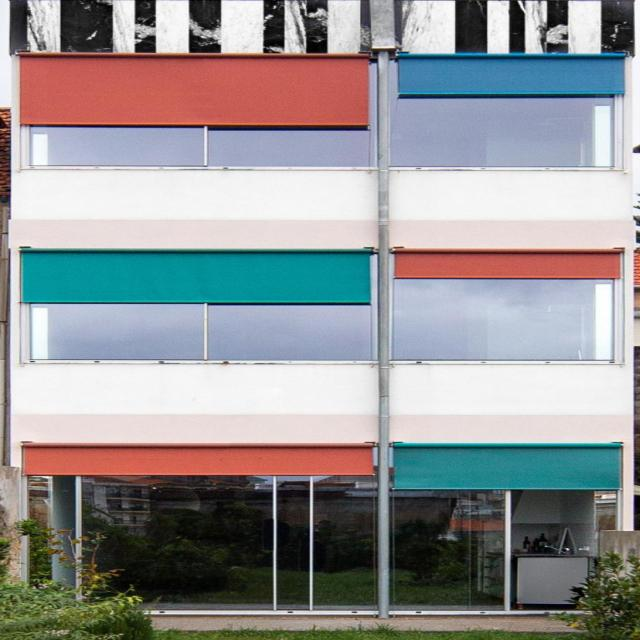door: (45, 476, 583, 616)
window: (29, 277, 616, 360), (25, 96, 619, 167)
